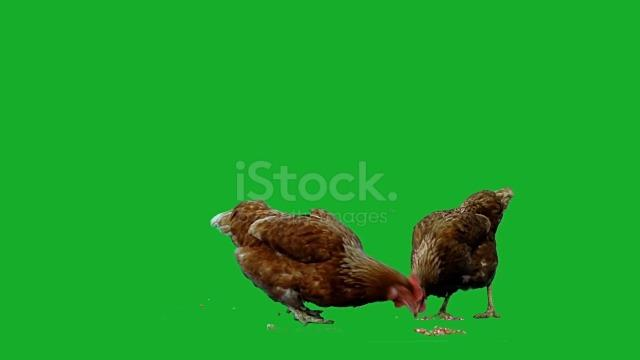Normal: (218, 201, 426, 332), (411, 179, 520, 316)
